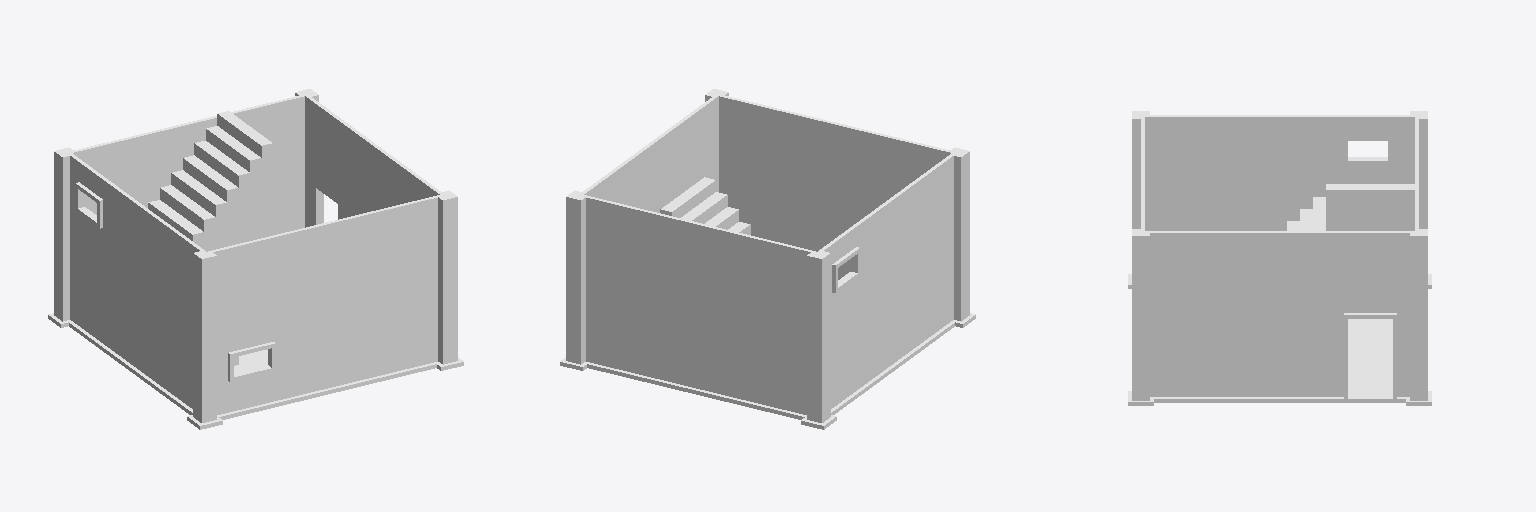
File: stairs4_wall_half_floor.obj
3 renders of one model, left to right at view 1: azimuth 30°, elevation 25°; view 2: azimuth 150°, elevation 25°; view 3: azimuth 270°, elevation 25°, orthographic.
Parts seen in each view (by area): view 1: stairs4_wall_half_floor; view 2: stairs4_wall_half_floor; view 3: stairs4_wall_half_floor.
Part boxes in pixels (left/top/right/bottom): stairs4_wall_half_floor: left=48, top=89, right=463, bottom=429; stairs4_wall_half_floor: left=560, top=89, right=975, bottom=429; stairs4_wall_half_floor: left=1128, top=111, right=1431, bottom=405.
Bounding box in the file's own units: 69 × 43 × 69.